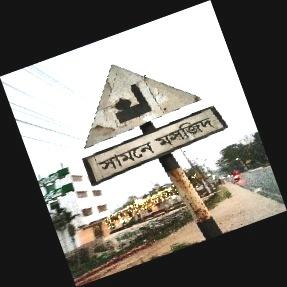Mosque in front: (82, 65, 222, 186)
